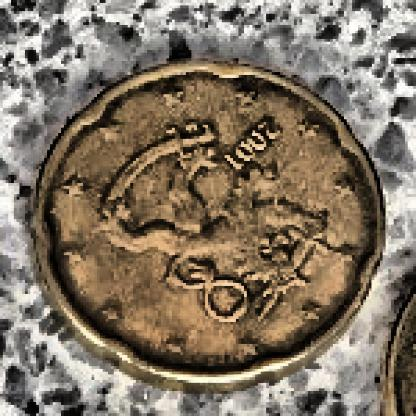coin: (24, 58, 388, 389)
